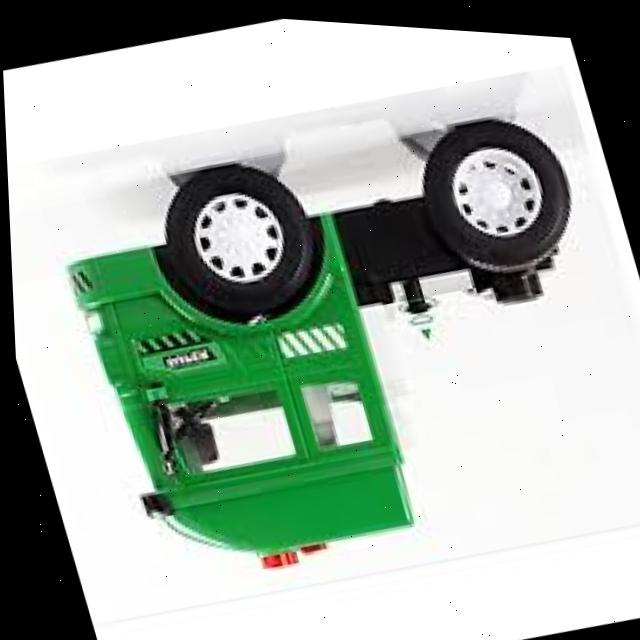Dry: (28, 53, 640, 629)
